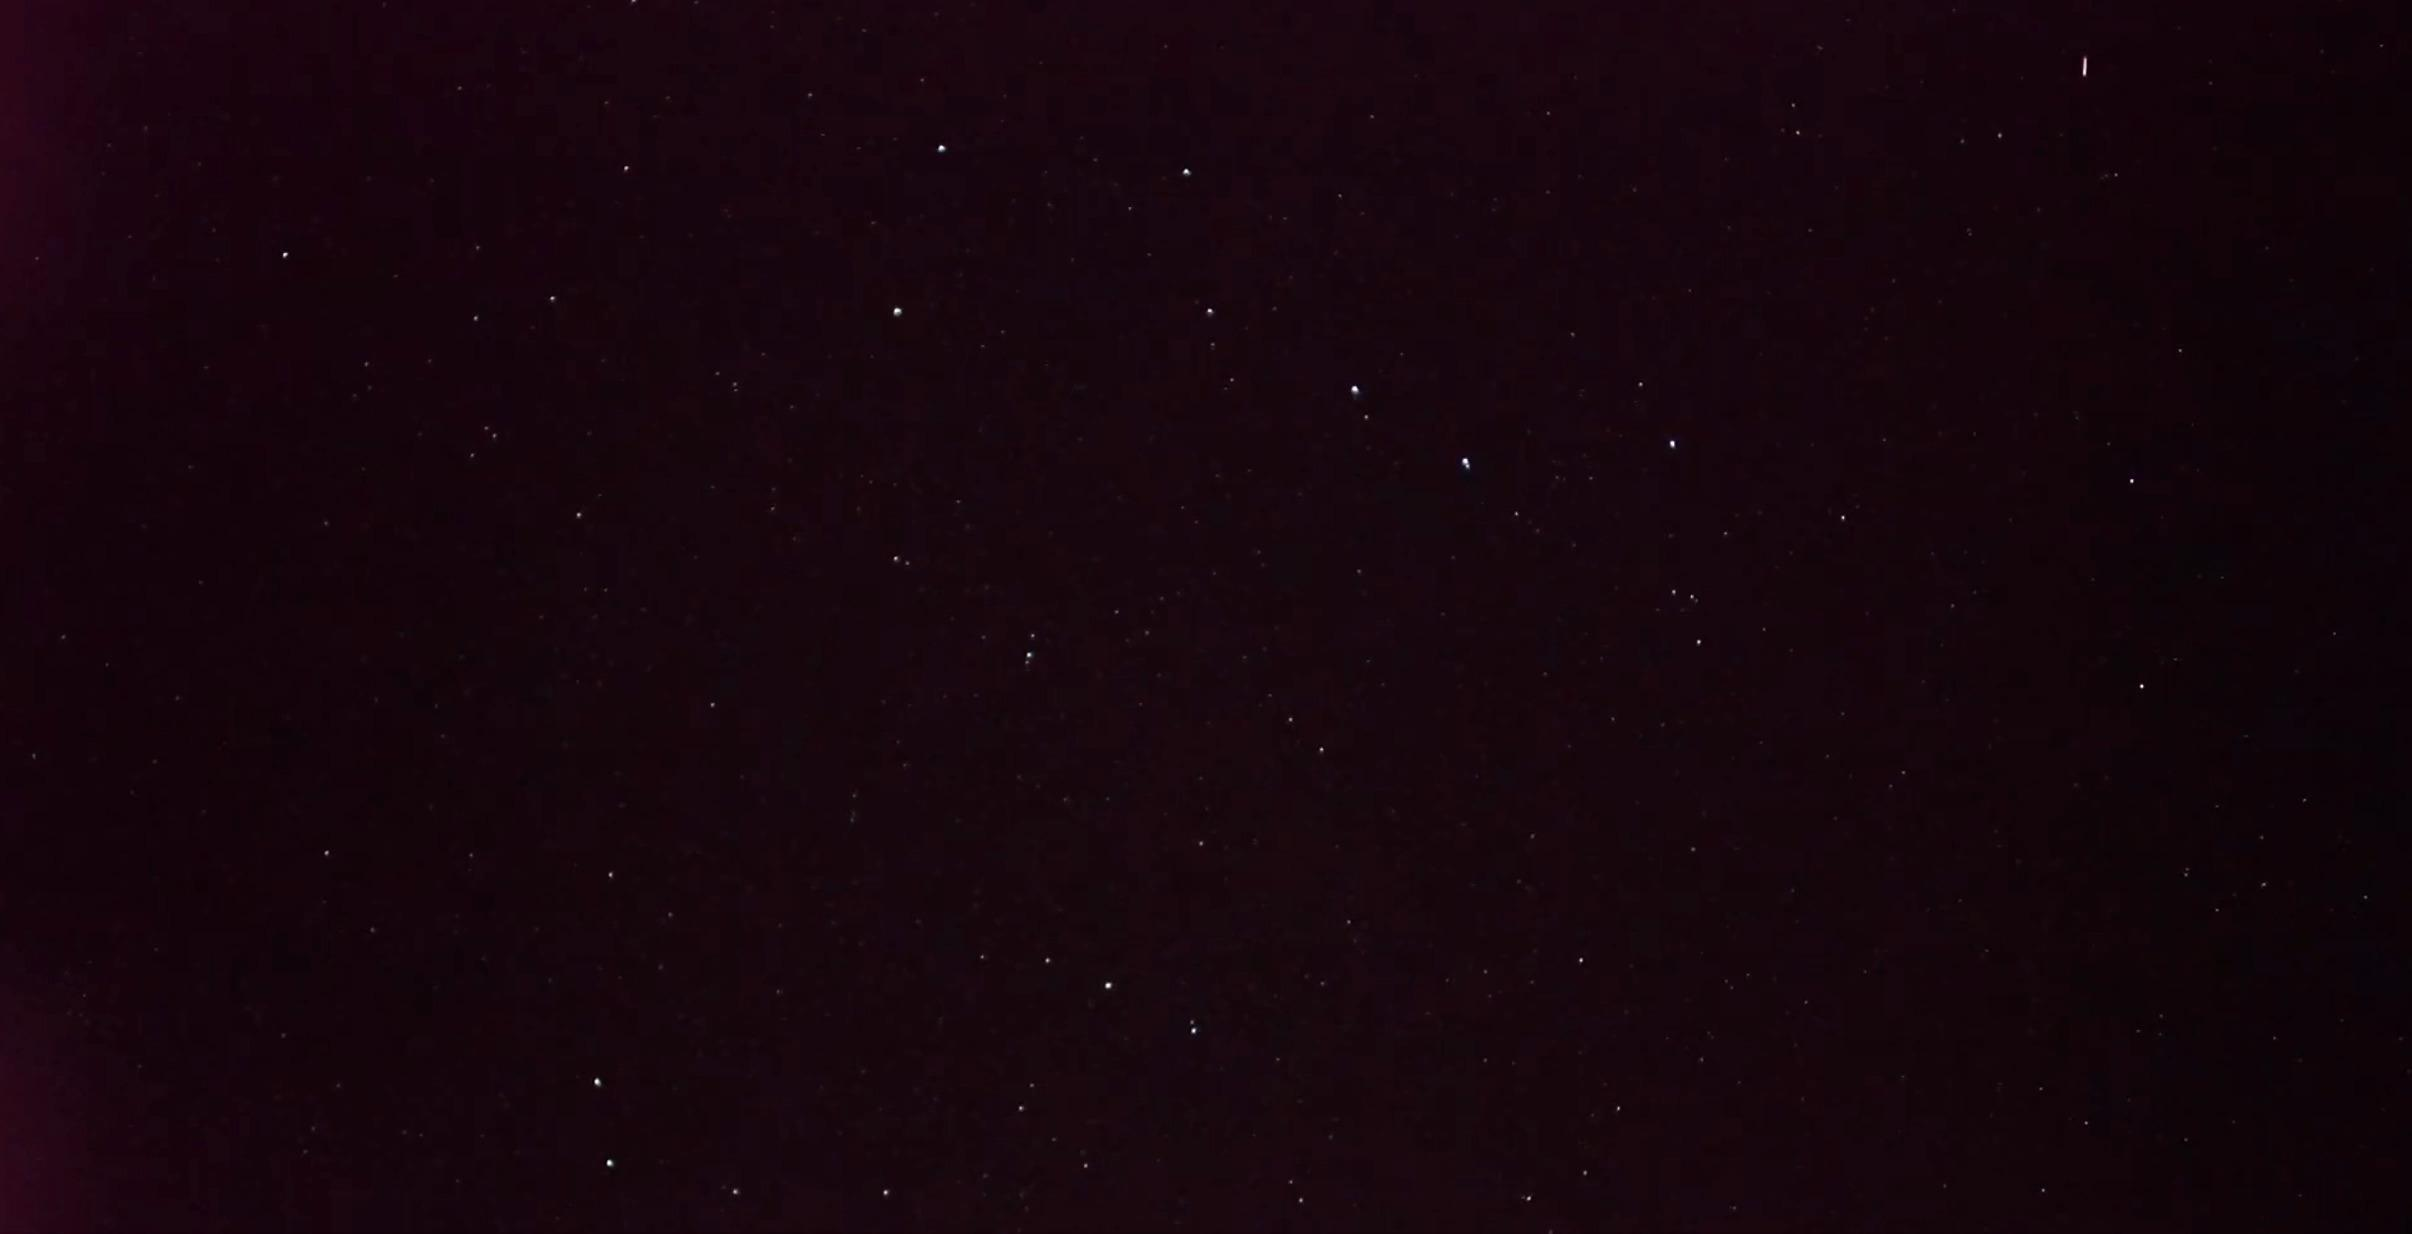meteorite: (2045, 39, 2121, 91)
